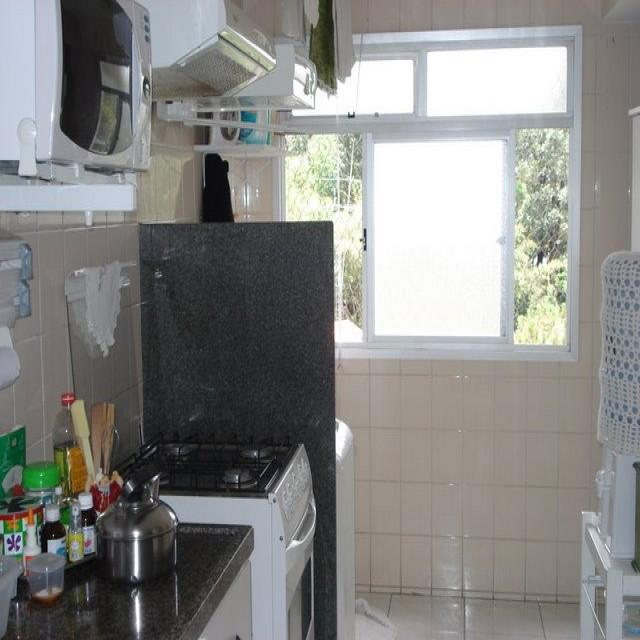2001: (278, 29, 576, 352)
cattle: (93, 472, 182, 585)
microwave: (1, 1, 153, 177)
oven cloth: (280, 489, 320, 636)
